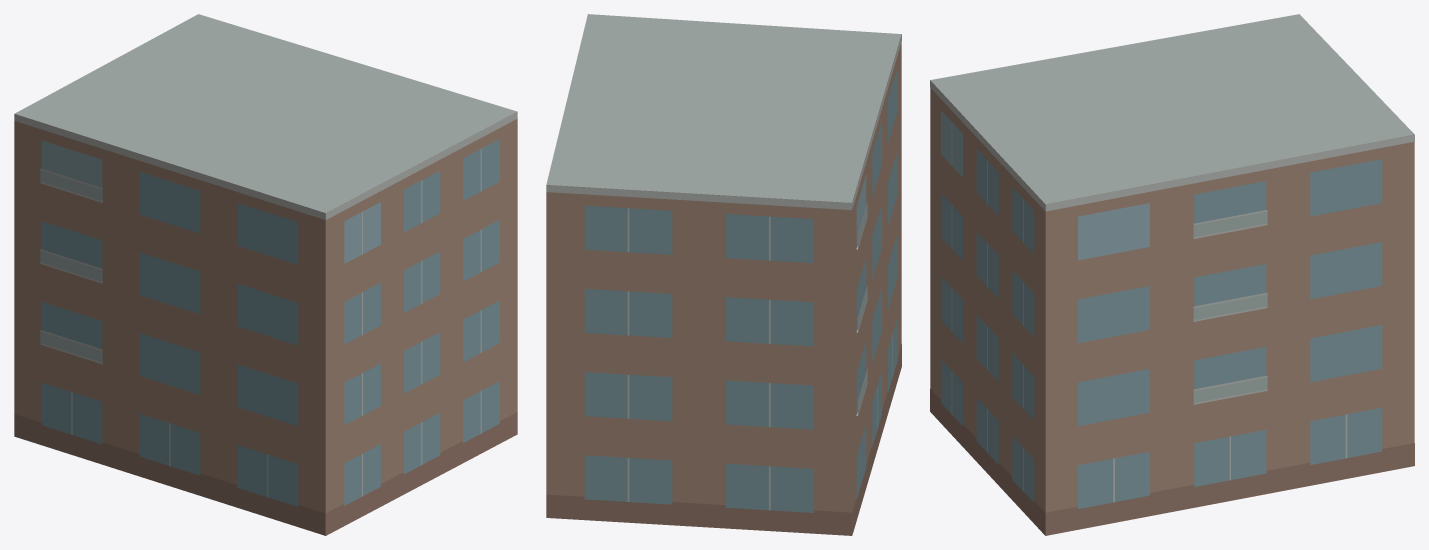
File: survey-upis-32929729.glb
3 views of the same model, side by side, from view 1: azimuth 30°, elevation 25°; view 2: azimuth 150°, elevation 25°; view 3: azimuth 270°, elevation 25° (orthographic). The views are drawn at different scales.
Visible parts, largest first — view 1: survey-upis-32929729.tmp; view 2: survey-upis-32929729.tmp; view 3: survey-upis-32929729.tmp.
Boxes of the visible parts, x1,y1,x2,y2 form: survey-upis-32929729.tmp: (14, 14, 517, 535); survey-upis-32929729.tmp: (546, 14, 901, 535); survey-upis-32929729.tmp: (930, 14, 1414, 535).
Size of the model in its own units: 13.86 by 11.25 by 14.92.
